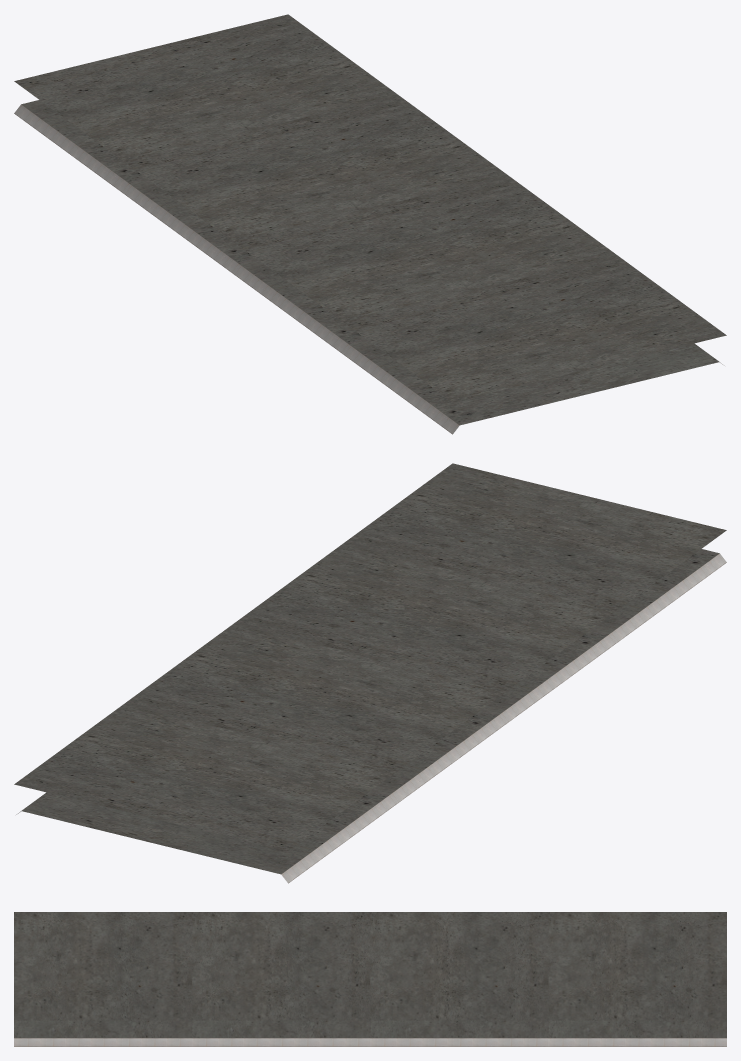
File: roof_lod.fbx
3 renders of one model, top to bottom at view 1: azimuth 30°, elevation 25°; view 2: azimuth 150°, elevation 25°; view 3: azimuth 270°, elevation 25°, orthographic. The views are drawn at different scales.
Visible parts, largest first — view 1: Tunnel_lod.001; view 2: Tunnel_lod.001; view 3: Tunnel_lod.001.
Part boxes in pixels (x1,y1,x2,y2): Tunnel_lod.001: (14, 14, 726, 434); Tunnel_lod.001: (14, 463, 726, 883); Tunnel_lod.001: (14, 912, 726, 1046).
Bounding box in the file's own units: 2310 × 260 × 6400.
